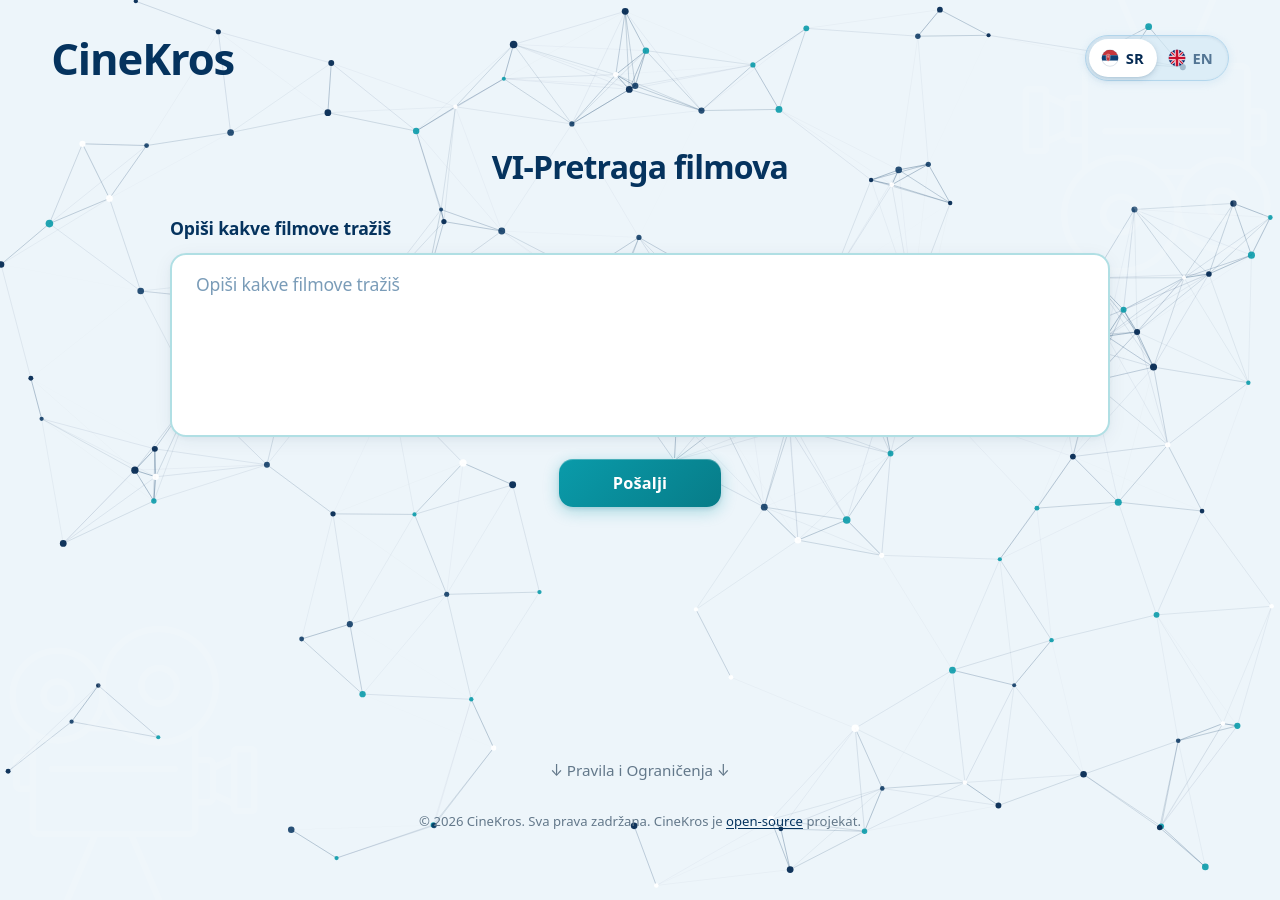
Test case: language-aware v2.1 recommendation boundary › sends Serbian Cyrillic unchanged with sr and displays the localized mismatch
Type "Желим нешто као Fight Club са Brad Pittom" into the text box at (640, 345), box [170,253,1110,437]
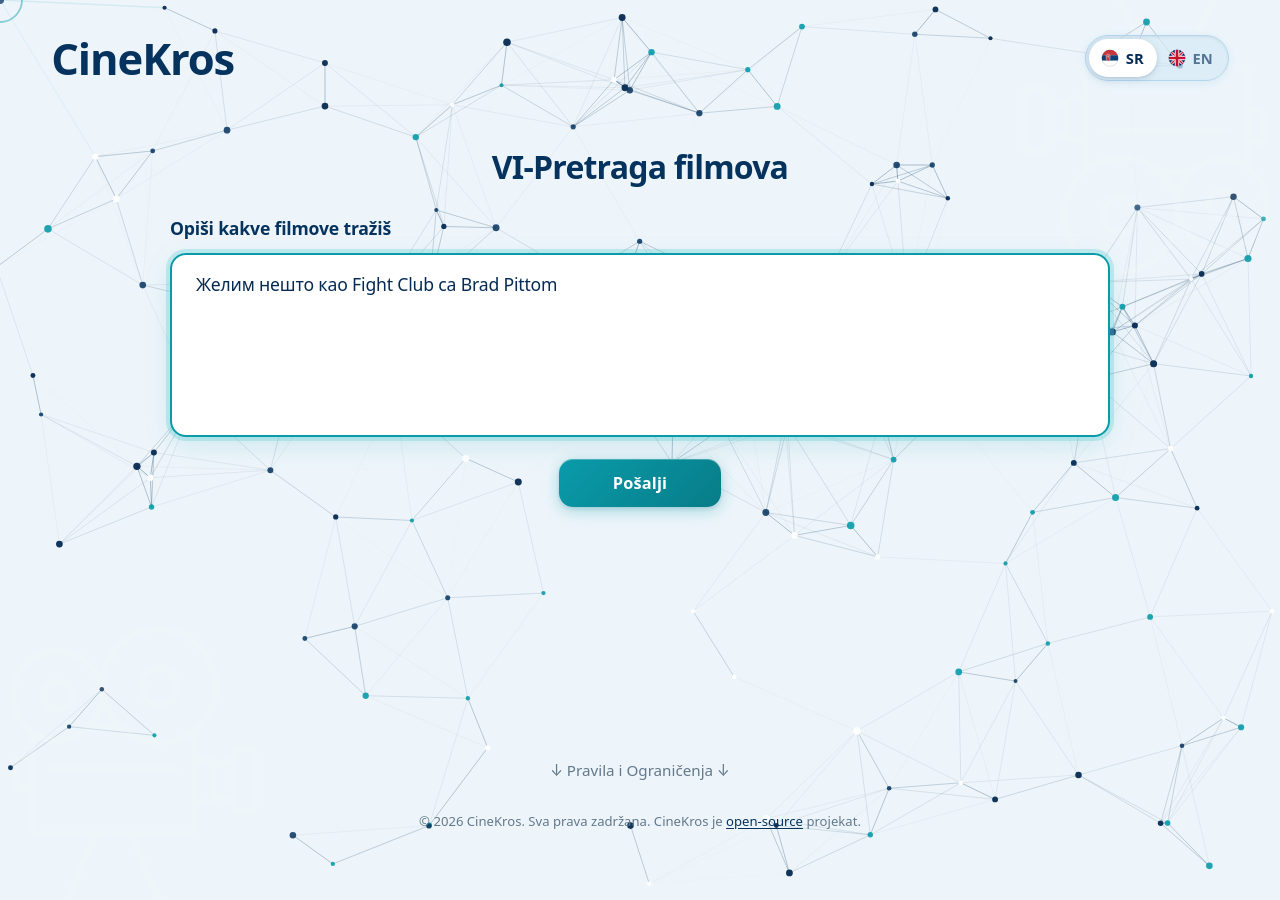
Click the button "Pošalji" at (640, 483), box [559,459,721,507]
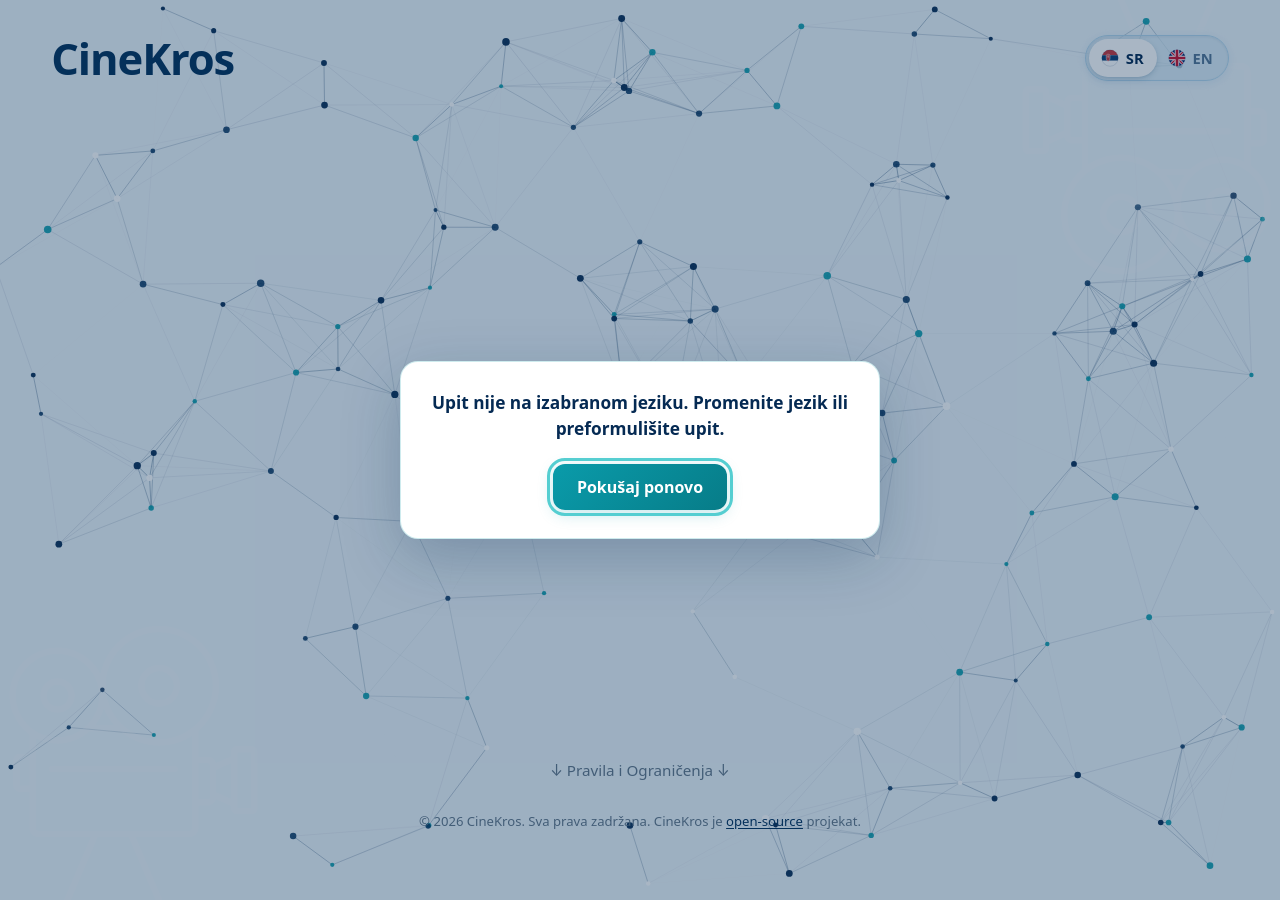
Now the text "Upit nije na izabranom jeziku. Promenite jezik ili preformulišite upit." is shown, box [429,390,851,442]
